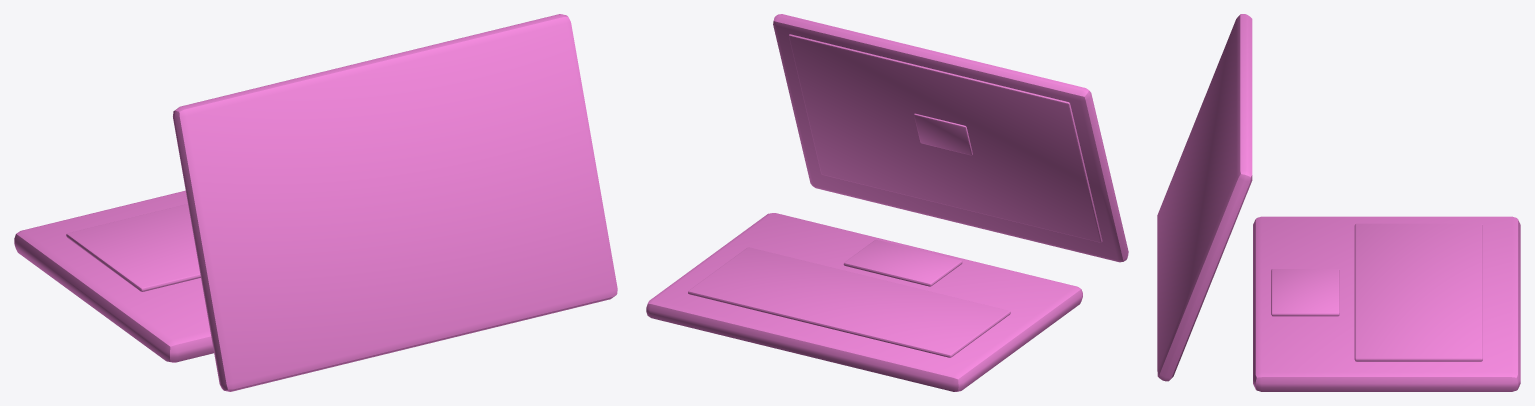
The model's file is Parcel_Laptop.fbx.
3 views of the same model, side by side, from view 1: azimuth 30°, elevation 25°; view 2: azimuth 150°, elevation 25°; view 3: azimuth 270°, elevation 25° (orthographic). The views are drawn at different scales.
Visible parts, largest first — view 1: Parcel; view 2: Parcel; view 3: Parcel.
Boxes of the visible parts, x1=… form: Parcel: x1=14, y1=14, x2=617, y2=391; Parcel: x1=646, y1=14, x2=1128, y2=391; Parcel: x1=1157, y1=14, x2=1520, y2=391.
Bounding box in the file's own units: 1.8 × 1.14 × 1.7.
Materials: 1 (1 with a texture image).
